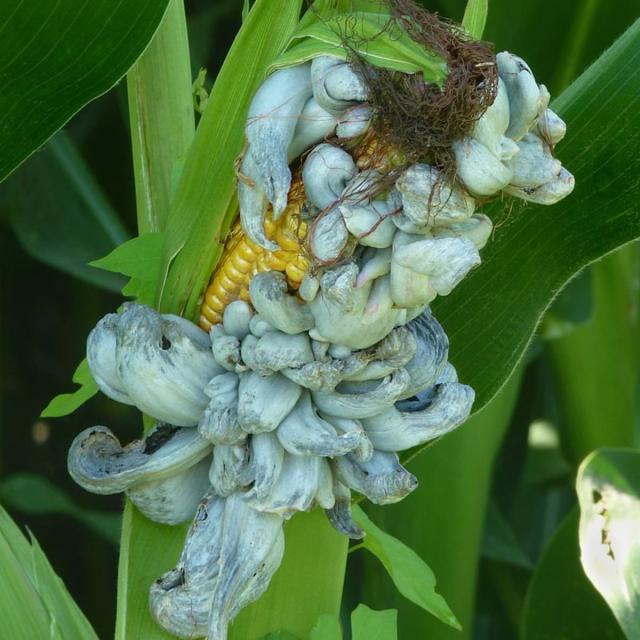Leaf_Scald: (76, 9, 602, 600)
